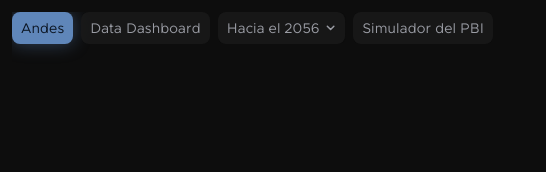
Test: UI Components › TabBar › renders the section tabs in order, aria-selected follows store, click changes section
// Click Data Dashboard: it opens the first data scene and shows the five scene tabs
Step 1. Click the tab "Data Dashboard" → (145,28), box x1=81 y1=12 x2=210 y2=44
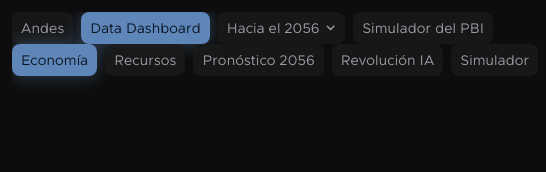
Expected: the number of tabs is 9
